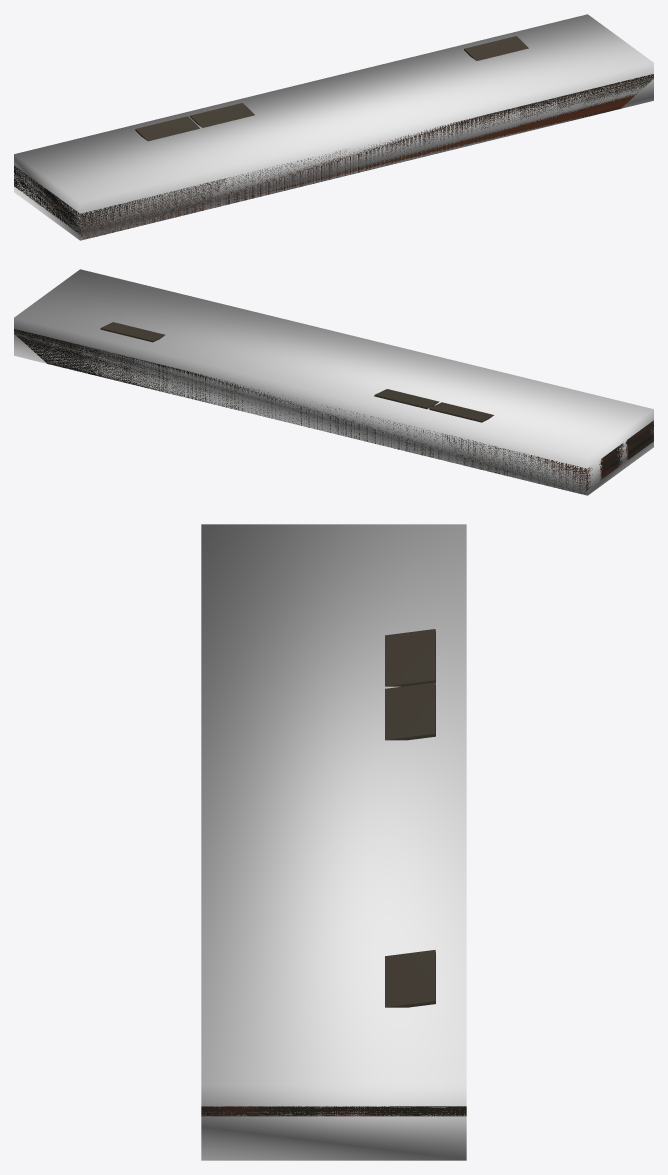
Rendered from barcaza.glb.
3 renders of one model, top to bottom at view 1: azimuth 30°, elevation 25°; view 2: azimuth 150°, elevation 25°; view 3: azimuth 270°, elevation 25°, orthographic. The views are drawn at different scales.
Parts seen in each view (by area): view 1: barcaza-colcaja, barcaza; view 2: barcaza-colcaja, barcaza; view 3: barcaza-colcaja, barcaza.
Boxes of the visible parts, <box> form: barcaza-colcaja: <box>14,14,653,240</box>; barcaza: <box>14,36,653,239</box>; barcaza-colcaja: <box>14,269,653,495</box>; barcaza: <box>14,322,653,494</box>; barcaza-colcaja: <box>201,524,466,1160</box>; barcaza: <box>201,629,466,1116</box>.
Bounding box in the file's own units: 60 × 4.12 × 12.
